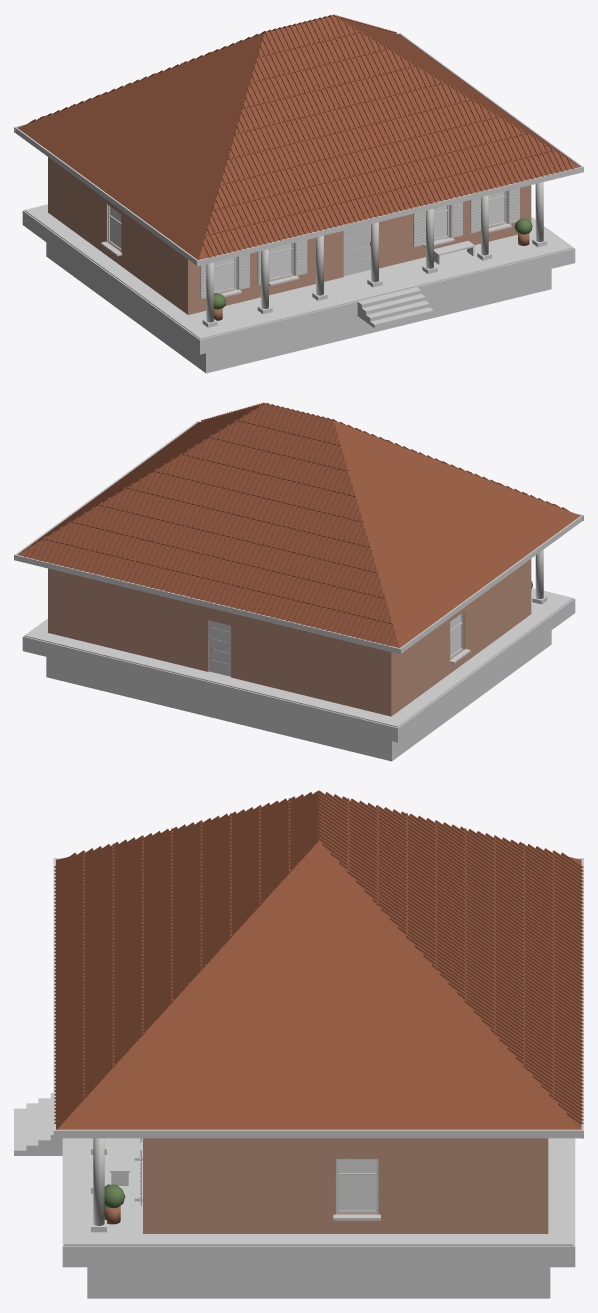
The model's file is bungalow_15x12_1.glb.
3 renders of one model, top to bottom at view 1: azimuth 30°, elevation 25°; view 2: azimuth 150°, elevation 25°; view 3: azimuth 270°, elevation 25°, orthographic. The views are drawn at different scales.
Parts seen in each view (by area): view 1: bungalow_15x12_1; view 2: bungalow_15x12_1; view 3: bungalow_15x12_1.
Part boxes in pixels (bbox=[...]): bungalow_15x12_1: bbox=[14, 14, 583, 373]; bungalow_15x12_1: bbox=[14, 402, 583, 761]; bungalow_15x12_1: bbox=[14, 790, 583, 1298].
Size of the model in its own units: 16.9 by 10.44 by 14.9.
